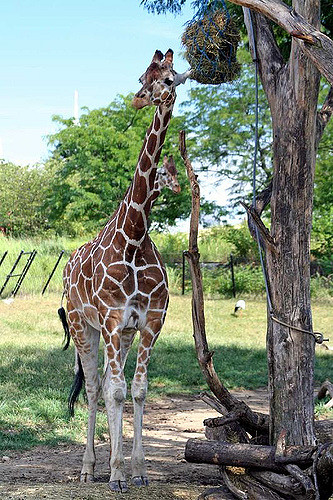giraffe: (63, 40, 187, 464)
